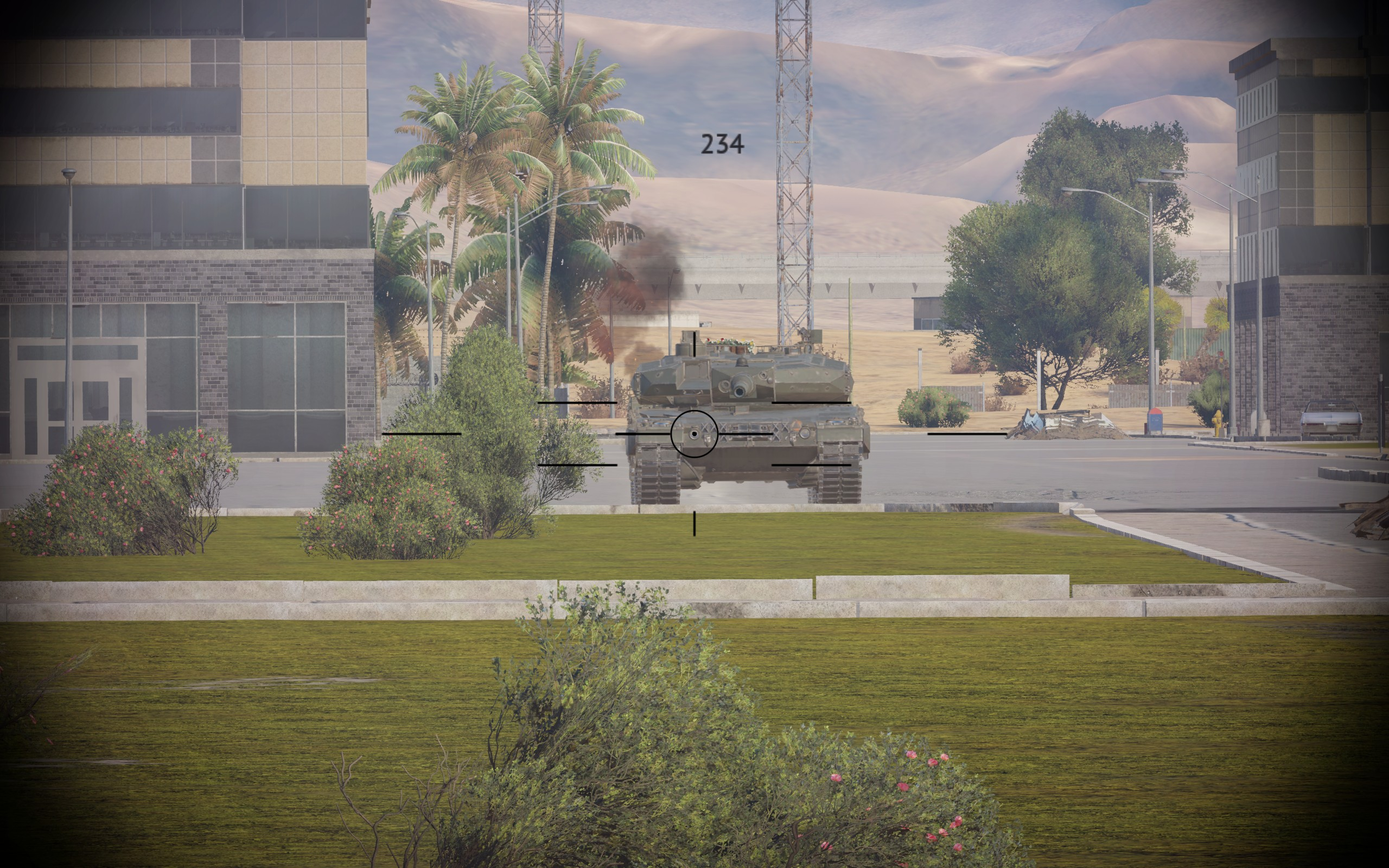leopard2: (623, 329, 871, 505)
